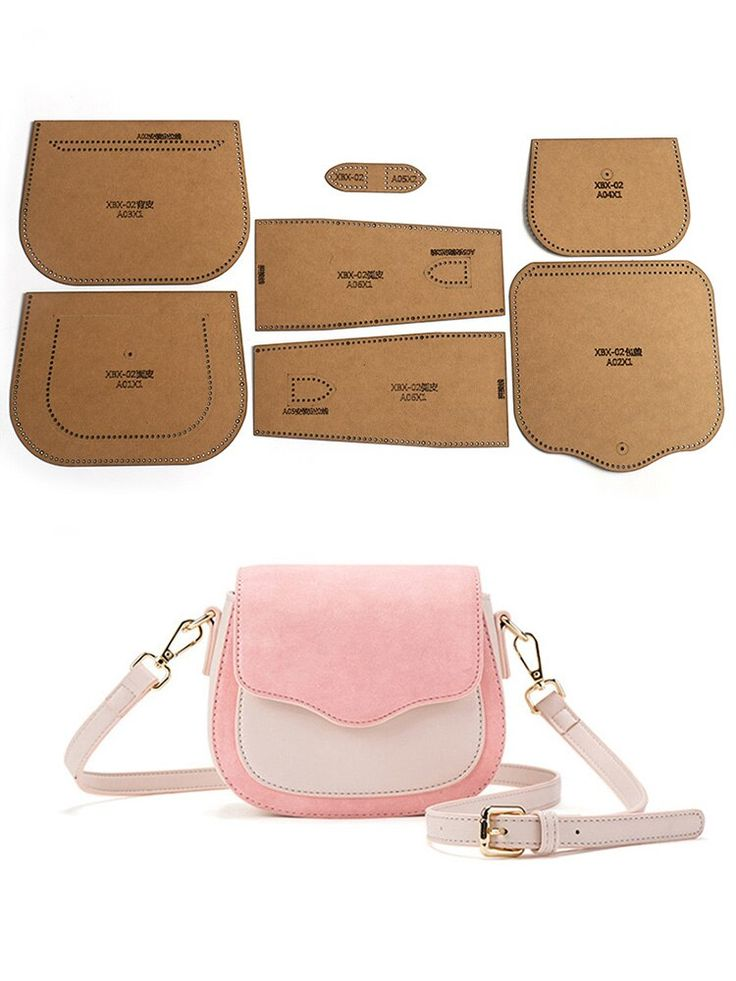cuero: (65, 564, 705, 857)
